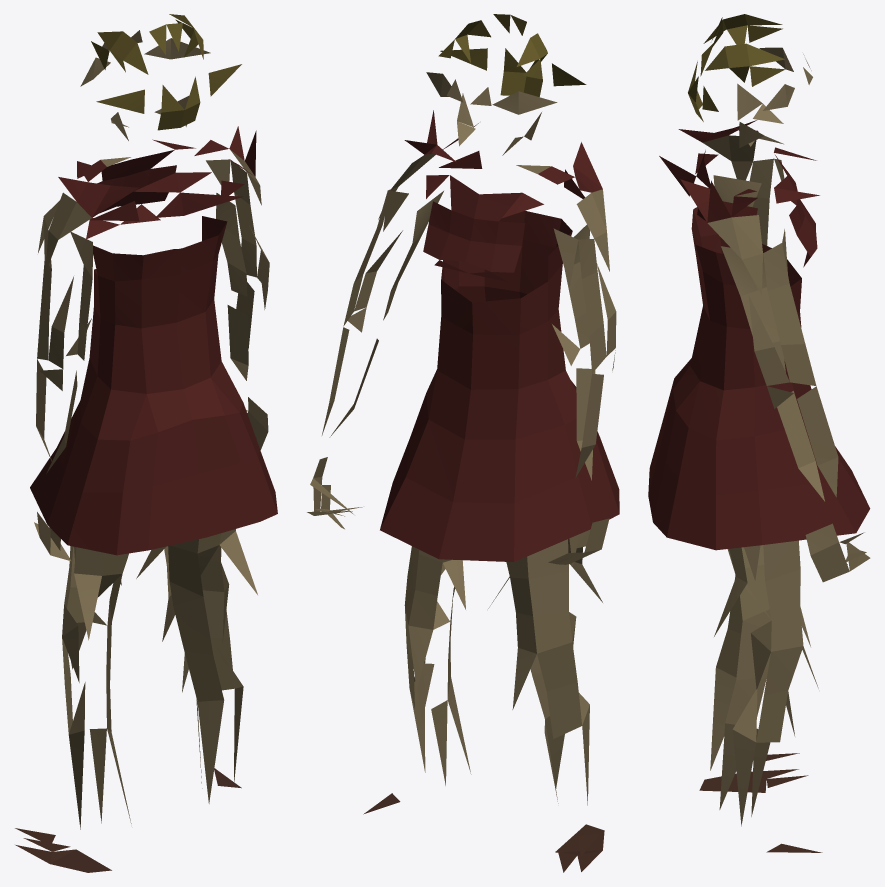
The model's file is personfar_0_idle.fbx.
3 views of the same model, side by side, from view 1: azimuth 30°, elevation 25°; view 2: azimuth 150°, elevation 25°; view 3: azimuth 270°, elevation 25° (orthographic). The views are drawn at different scales.
Parts seen in each view (by area): view 1: Female; view 2: Female; view 3: Female.
Boxes of the visible parts, box(x1,y1,x2,y2) form: Female: box(15, 14, 277, 872); Female: box(307, 14, 619, 872); Female: box(648, 14, 870, 852).
Bounding box in the file's own units: 0.3239 × 0.9684 × 0.243.
